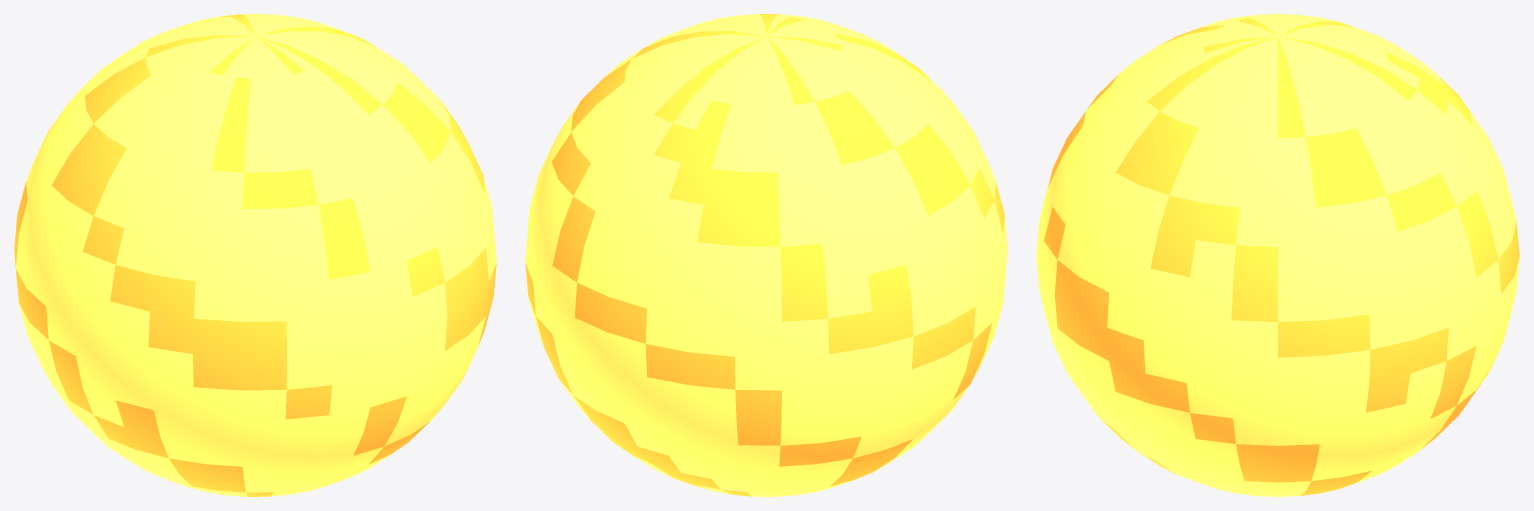
Rendered from sun.glb.
The picture shows the model from 3 angles, left to right: view 1: azimuth 30°, elevation 25°; view 2: azimuth 150°, elevation 25°; view 3: azimuth 270°, elevation 25°; orthographic projection.
Parts seen in each view (by area): view 1: Sun; view 2: Sun; view 3: Sun.
Part boxes in pixels (x1,y1,x2,y2): Sun: (14,14,496,496); Sun: (525,14,1007,496); Sun: (1036,14,1519,496).
Size of the model in its own units: 2 by 2 by 2.
